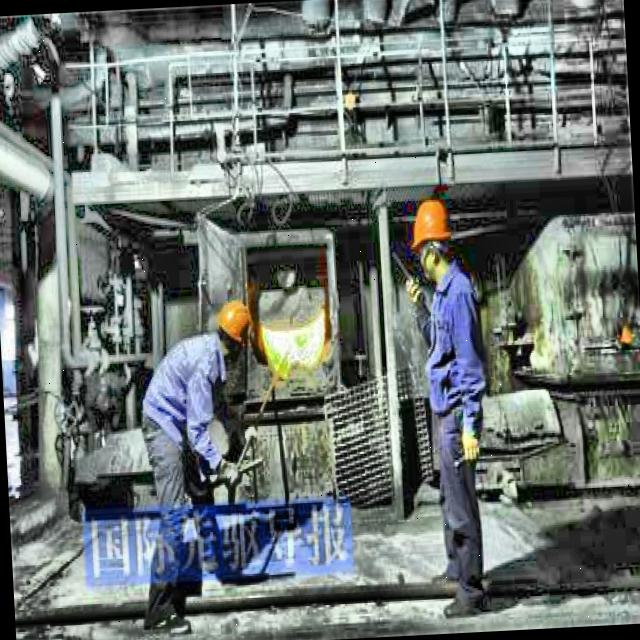helmet: (404, 194, 460, 287), (212, 300, 256, 358)
